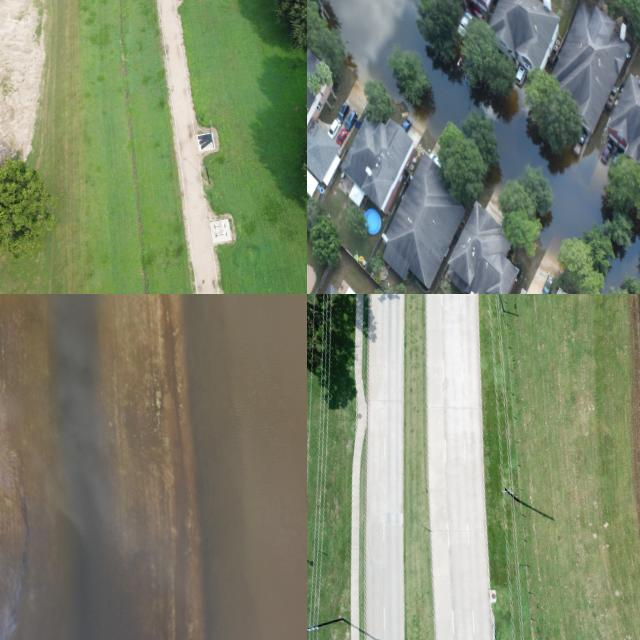fire: (0, 294, 307, 640), (482, 86, 609, 248), (330, 0, 476, 139)
